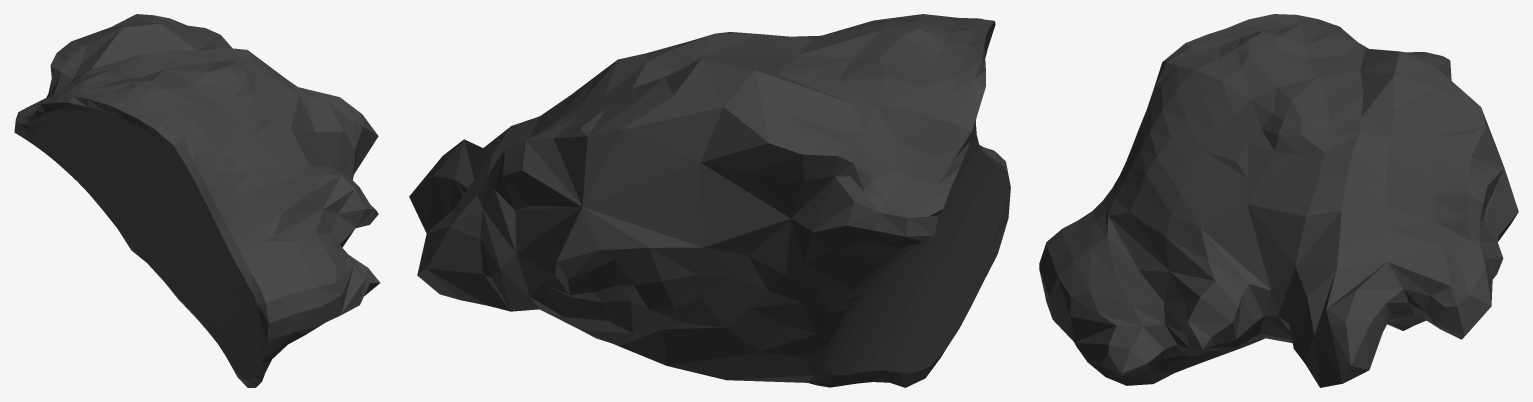
Rendered from R_sided_AURICLE.glb.
The picture shows the model from 3 angles, left to right: view 1: azimuth 30°, elevation 25°; view 2: azimuth 150°, elevation 25°; view 3: azimuth 270°, elevation 25°; orthographic projection. The views are drawn at different scales.
Parts seen in each view (by area): view 1: R_sided_AURICLE; view 2: R_sided_AURICLE; view 3: R_sided_AURICLE.
Boxes of the visible parts, left/top/right/bottom form: R_sided_AURICLE: left=14, top=14, right=380, bottom=387; R_sided_AURICLE: left=409, top=14, right=1010, bottom=387; R_sided_AURICLE: left=1039, top=14, right=1518, bottom=387.
Size of the model in its own units: 3.6 by 2.77 by 3.66.
Materials: 1 (1 with a texture image).
